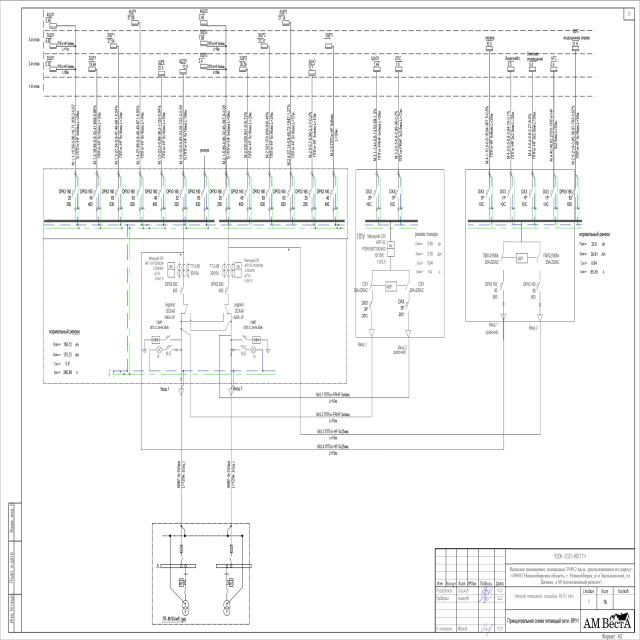-: (242, 318, 264, 333), (148, 320, 170, 332), (232, 301, 245, 320), (164, 301, 175, 319), (164, 281, 178, 293), (210, 281, 224, 293), (210, 270, 220, 276), (190, 270, 199, 276), (165, 351, 172, 356), (241, 351, 247, 356)
FV: (252, 335, 261, 344), (152, 335, 160, 343)
HL: (251, 345, 256, 354), (157, 346, 162, 354)
QF: (232, 344, 247, 352), (165, 344, 178, 352), (224, 284, 230, 296), (179, 284, 185, 295)
TT: (177, 262, 190, 278), (222, 262, 234, 278)
WH: (234, 261, 242, 278), (168, 262, 175, 278)
switch: (222, 304, 230, 316), (184, 304, 191, 316)
